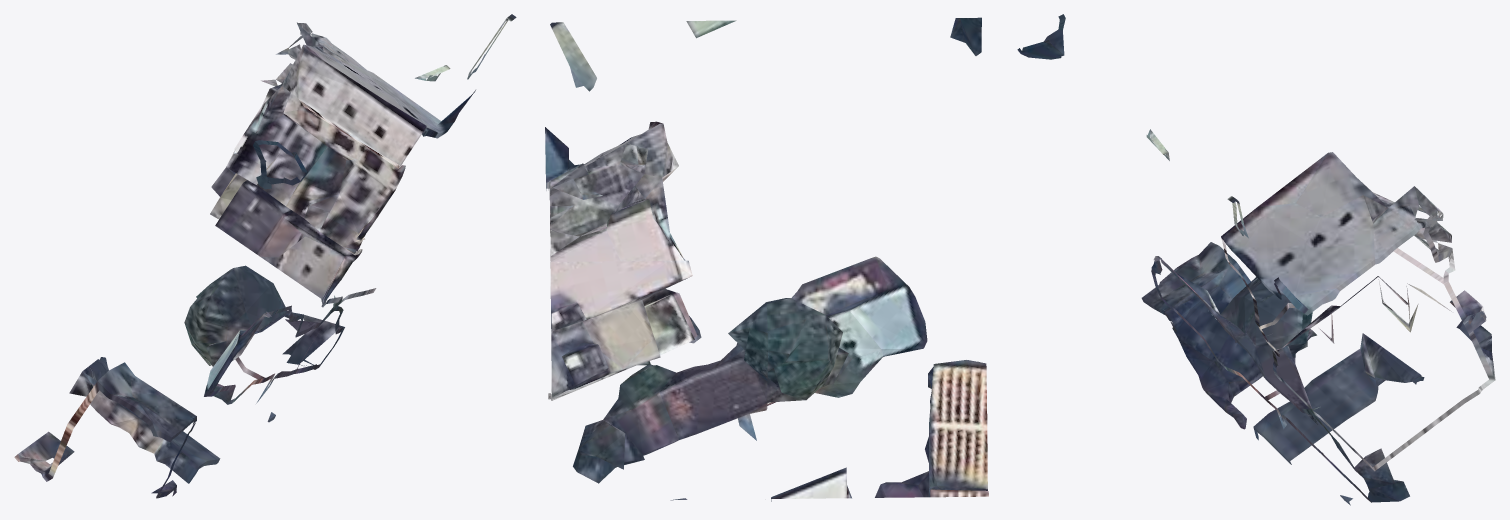
3 renders of one model, left to right at view 1: azimuth 30°, elevation 25°; view 2: azimuth 150°, elevation 25°; view 3: azimuth 270°, elevation 25°, orthographic. The views are drawn at different scales.
Bounding box in the file's own units: 42.71 × 36.92 × 38.74.
Materials: 1 (1 with a texture image).
